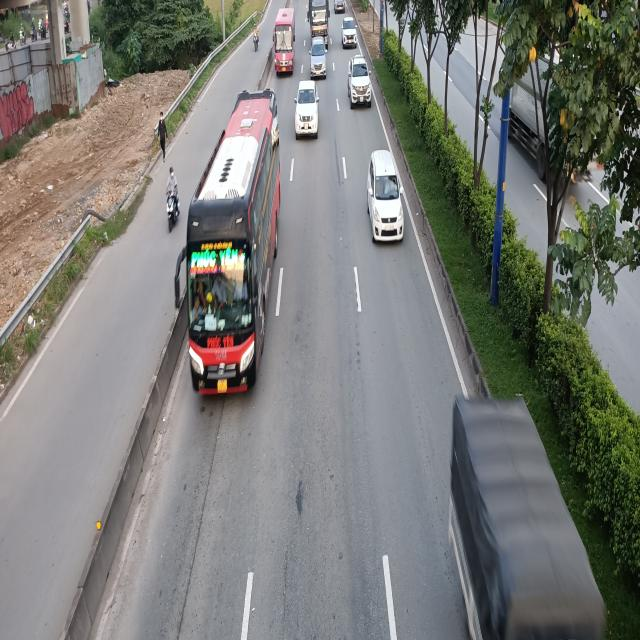car: (365, 150, 402, 245), (292, 79, 319, 138), (347, 58, 373, 110), (309, 38, 328, 76), (341, 16, 358, 48)
coach: (176, 87, 281, 397), (273, 6, 297, 76)
truck: (448, 391, 606, 638)
